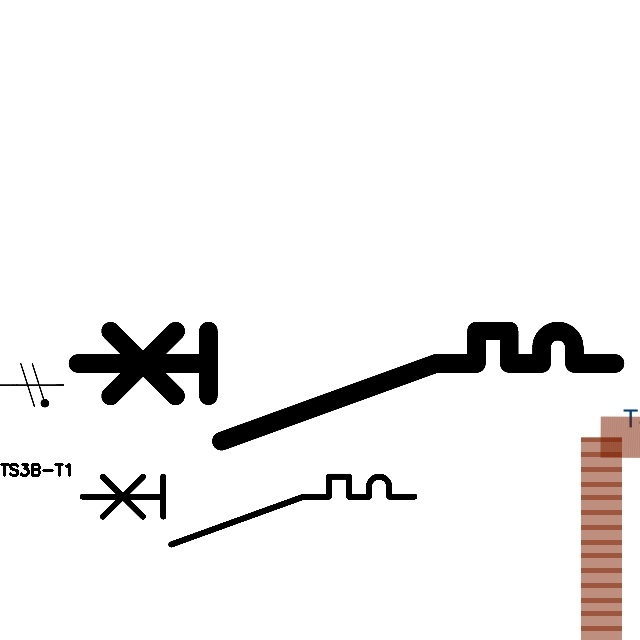interruptor_termomagnetico: (63, 317, 628, 455), (74, 468, 423, 553)
